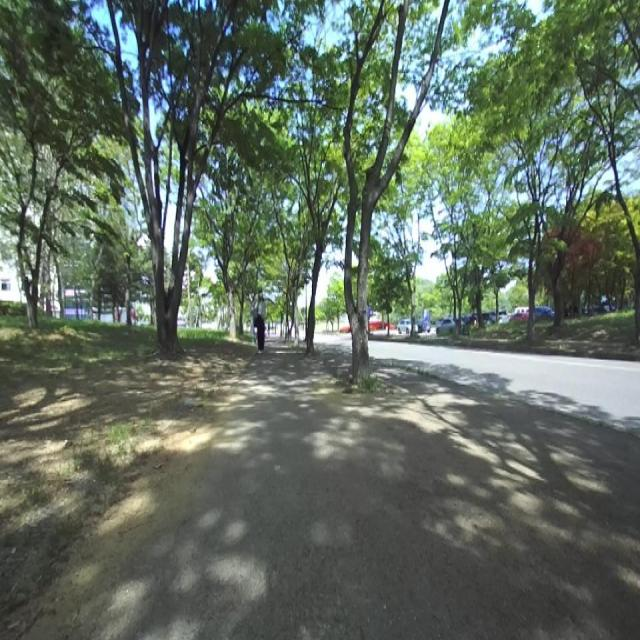sidewalk: (104, 341, 640, 639)
